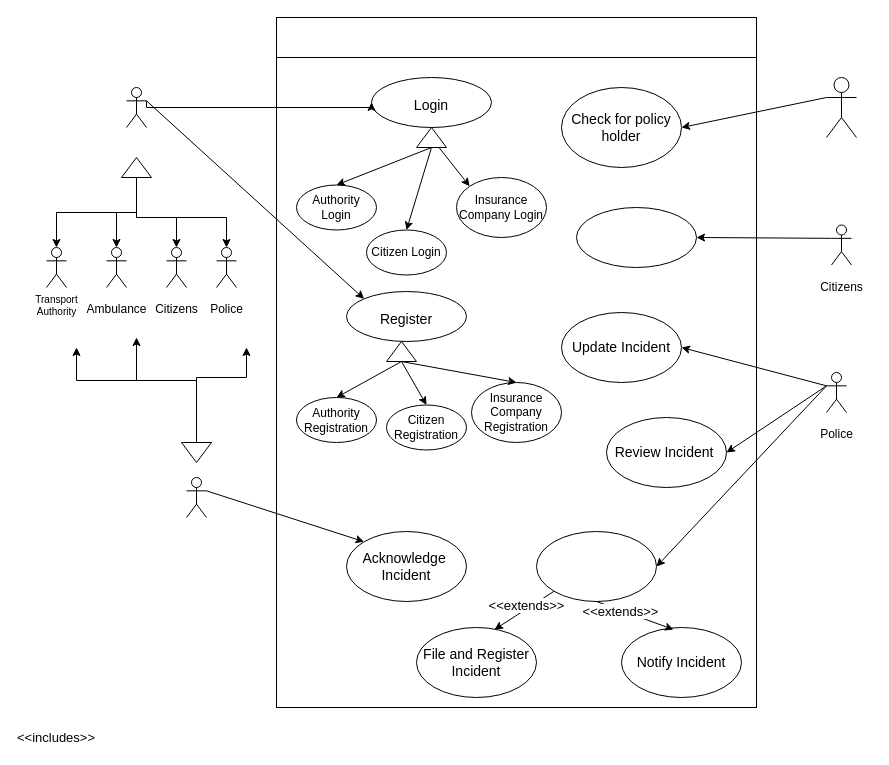
This 889x765 diagram has some shape labels left out. The centre of each missing label's shape, as x and y in pixels:
Authenticate Incident: (x=596, y=566)
Authenticated User: (x=196, y=497)
Insurance Company: (x=841, y=107)
On spot accident reporting System: (x=516, y=37)
Report Incident: (x=636, y=237)
User: (x=136, y=107)
